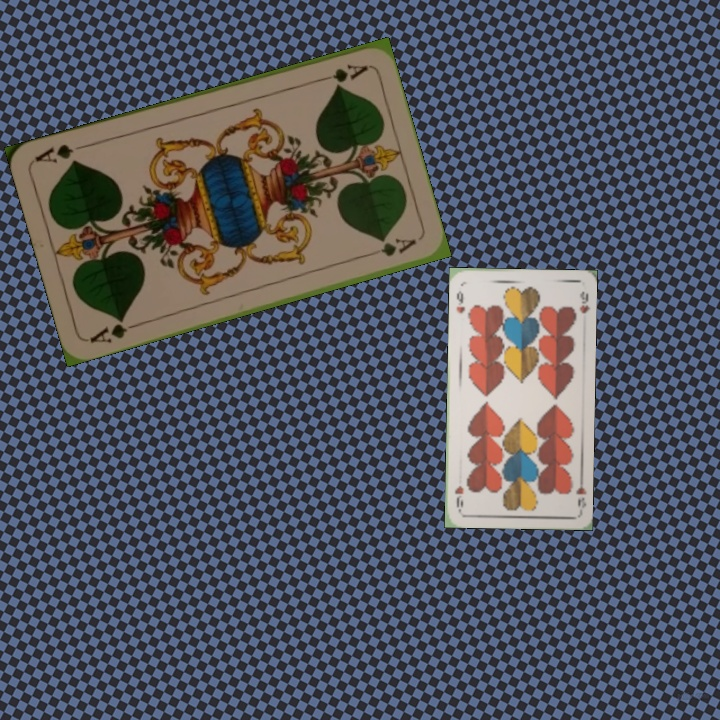GA: (86, 313, 143, 346), (312, 60, 371, 85)
H9: (572, 473, 589, 510), (452, 287, 467, 316)
